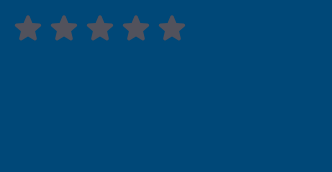
Scenario: StarRating › should show half-star preview on half-button hover
Hover over the button named "Rate 2.5 stars" at (92, 28), box [84,12,100,44]
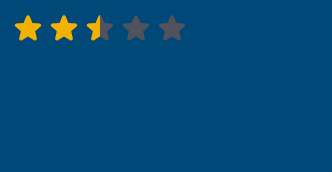
Result: the 3rd element with class "overflow-hidden" is shown at [84,12,100,44]
